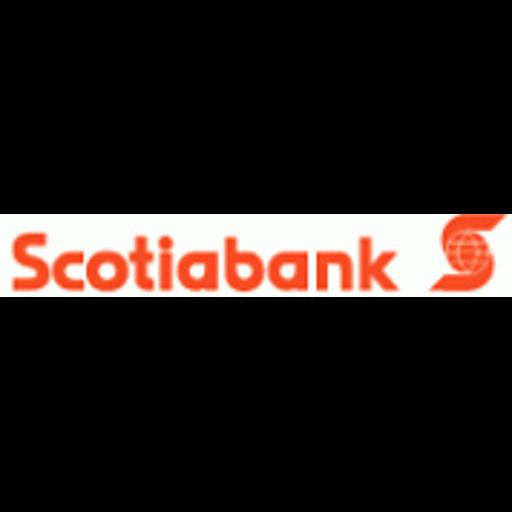Scotiabank: (0, 214, 512, 297)
